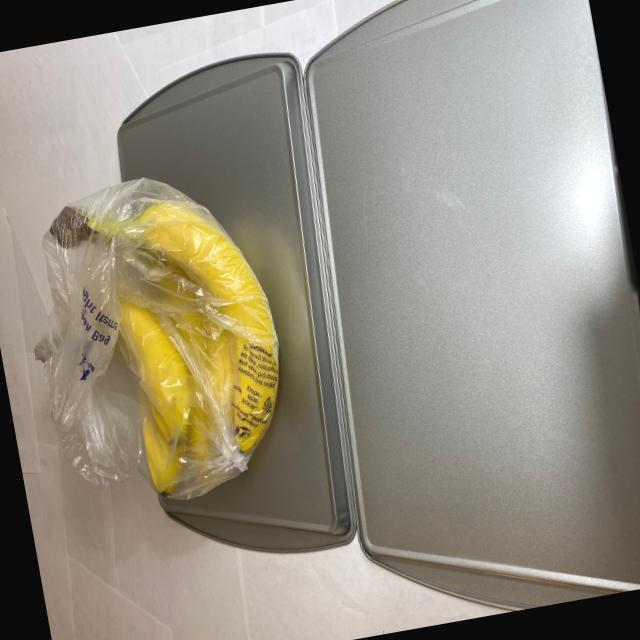banana: (24, 166, 306, 528)
